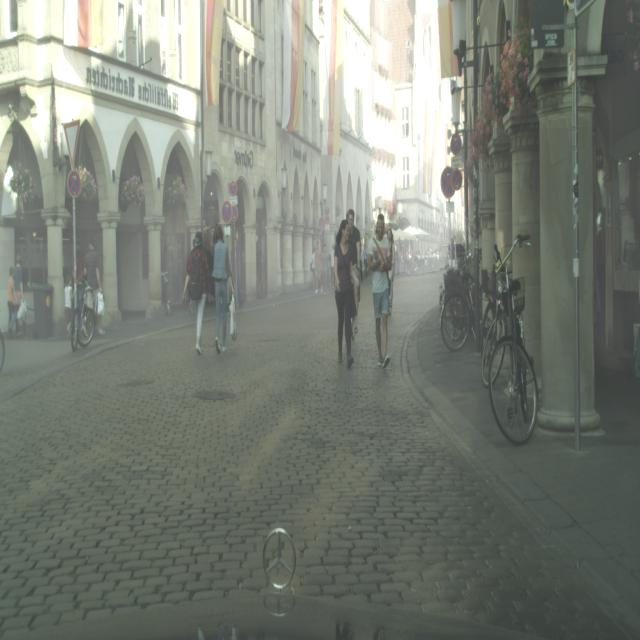car: (484, 234, 538, 446), (440, 255, 493, 354), (70, 278, 95, 351)
person: (368, 212, 393, 369), (333, 219, 357, 368), (182, 232, 209, 354), (212, 224, 234, 354), (82, 241, 103, 336), (346, 208, 362, 331), (13, 254, 27, 338), (7, 266, 18, 336)
